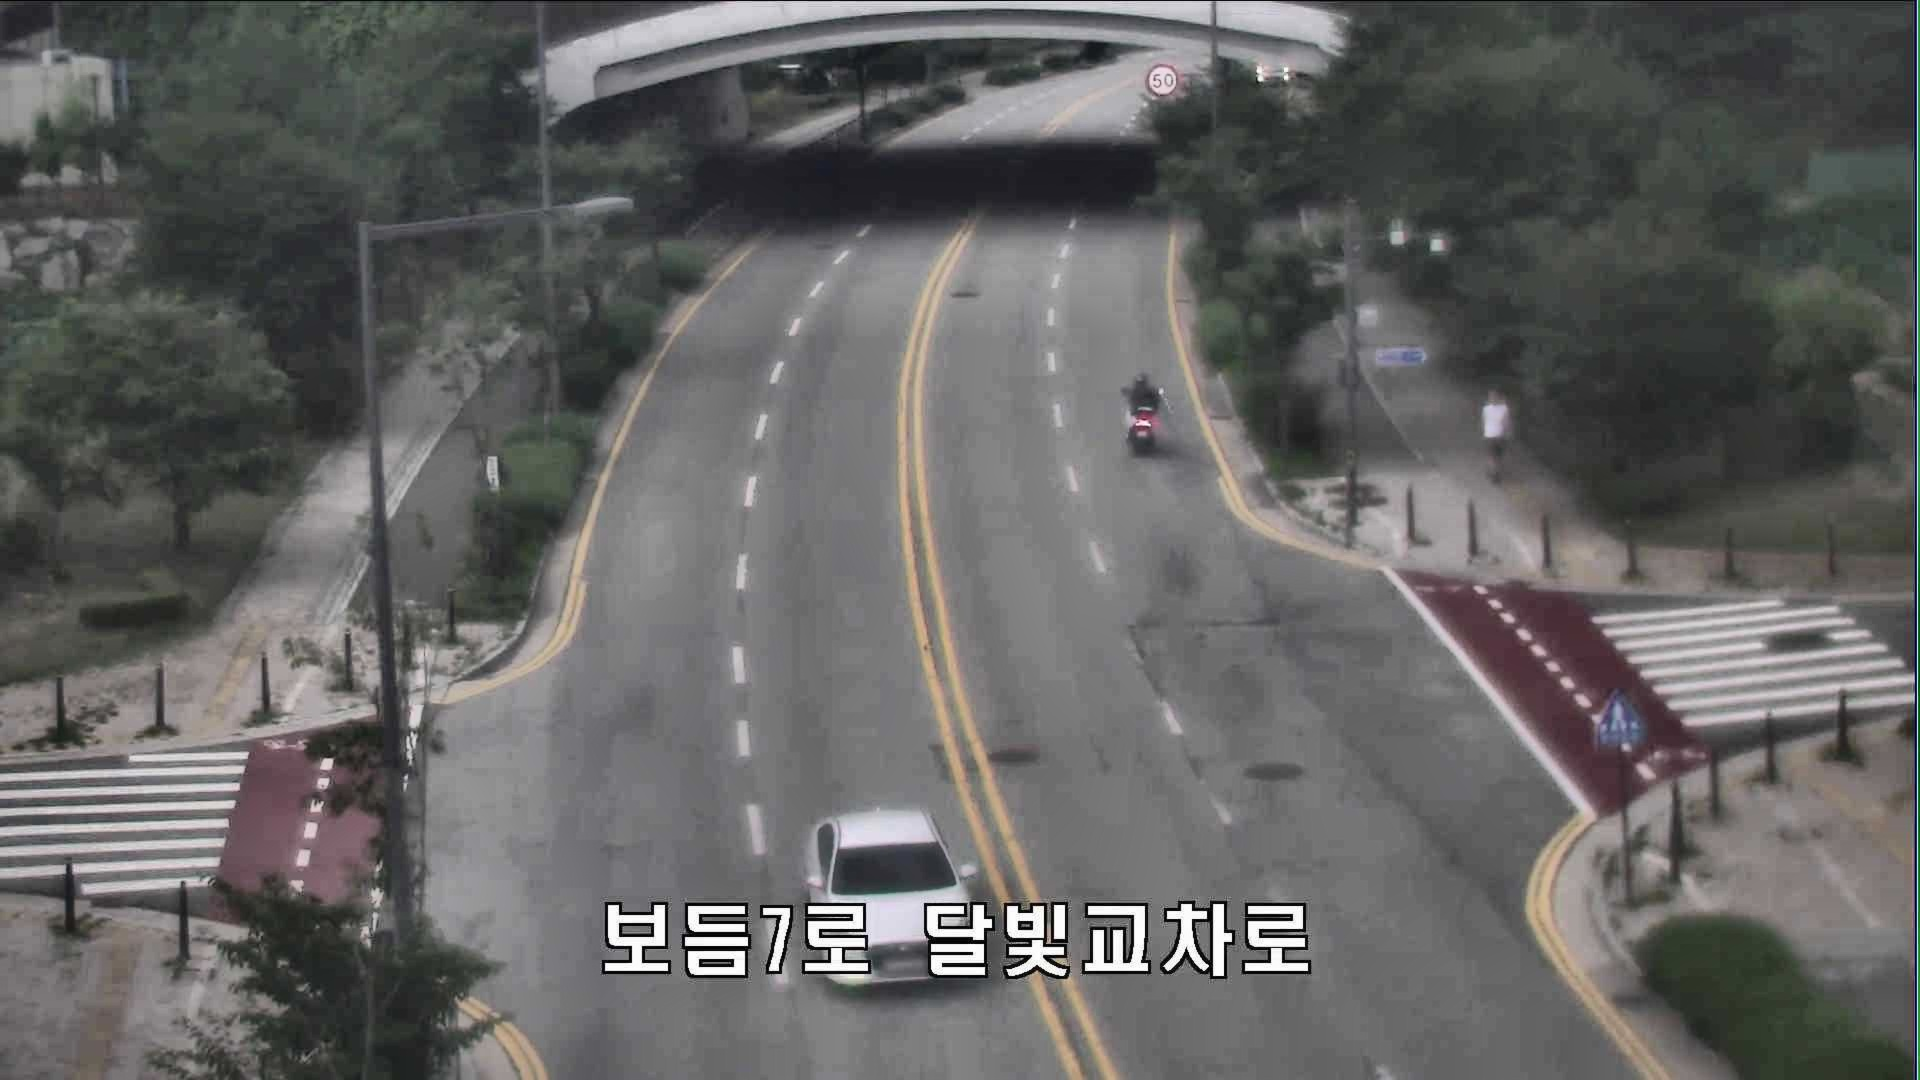sidewalk: (1478, 384, 1514, 487)
